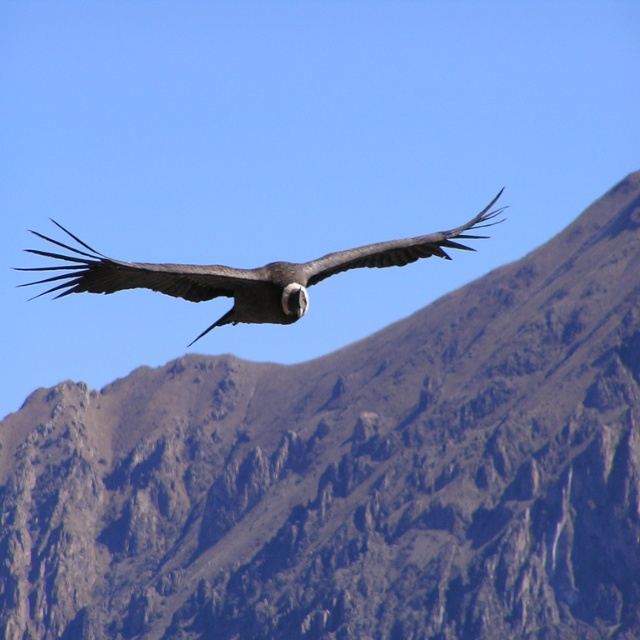Eagle: (9, 186, 512, 348)
